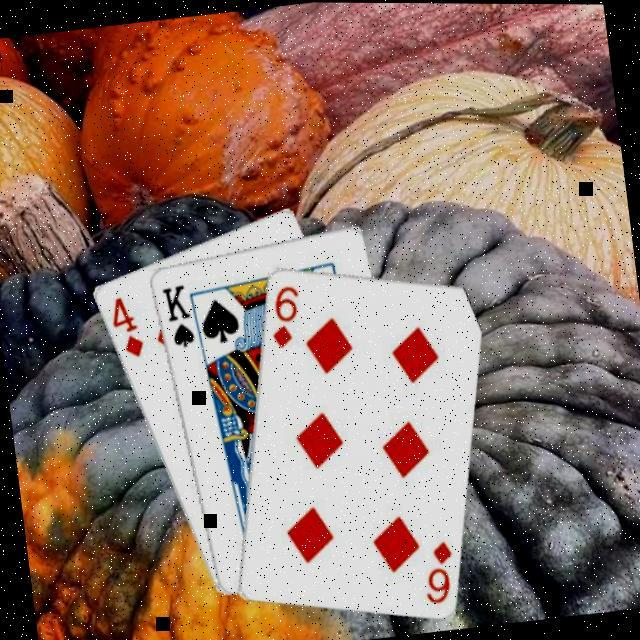4D: (103, 288, 145, 360)
6D: (413, 533, 458, 605), (260, 278, 304, 350)
KS: (155, 277, 195, 349)
